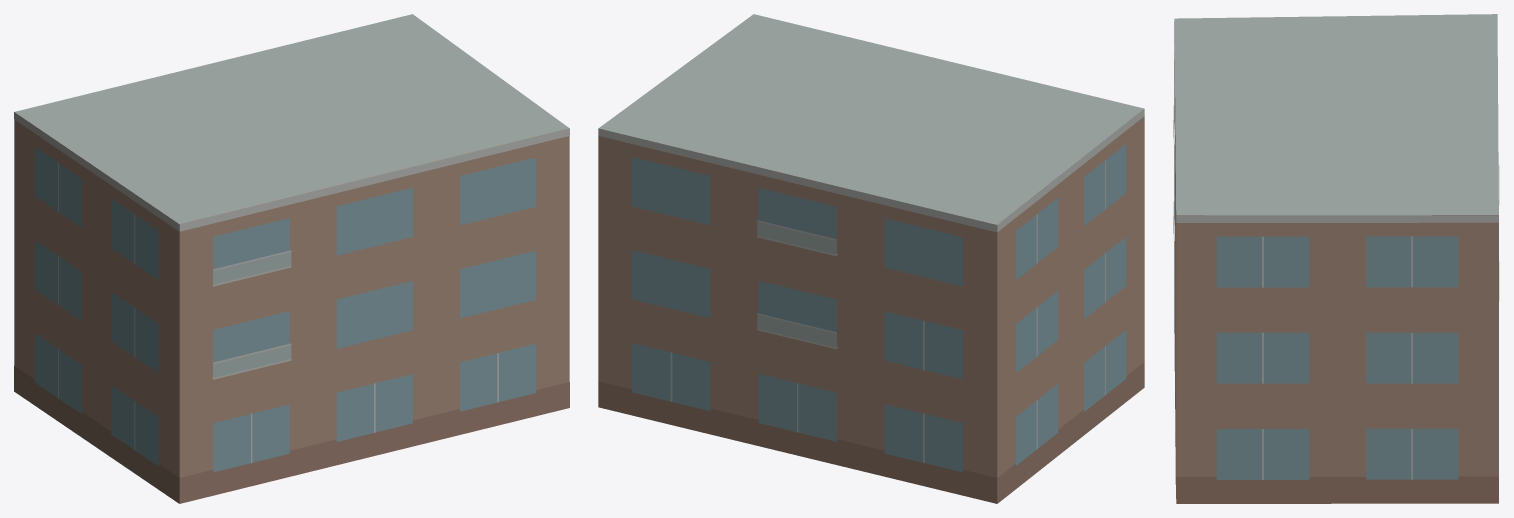
File: survey-upis-32700549.glb
The picture shows the model from 3 angles, left to right: view 1: azimuth 30°, elevation 25°; view 2: azimuth 150°, elevation 25°; view 3: azimuth 270°, elevation 25°; orthographic projection. The views are drawn at different scales.
Visible parts, largest first — view 1: survey-upis-32700549.tmp; view 2: survey-upis-32700549.tmp; view 3: survey-upis-32700549.tmp.
Boxes of the visible parts, left/top/right/bottom form: survey-upis-32700549.tmp: left=14, top=14, right=569, bottom=503; survey-upis-32700549.tmp: left=598, top=14, right=1144, bottom=503; survey-upis-32700549.tmp: left=1173, top=14, right=1499, bottom=503.
Bounding box in the file's own units: 13.71 × 9.15 × 9.39.
